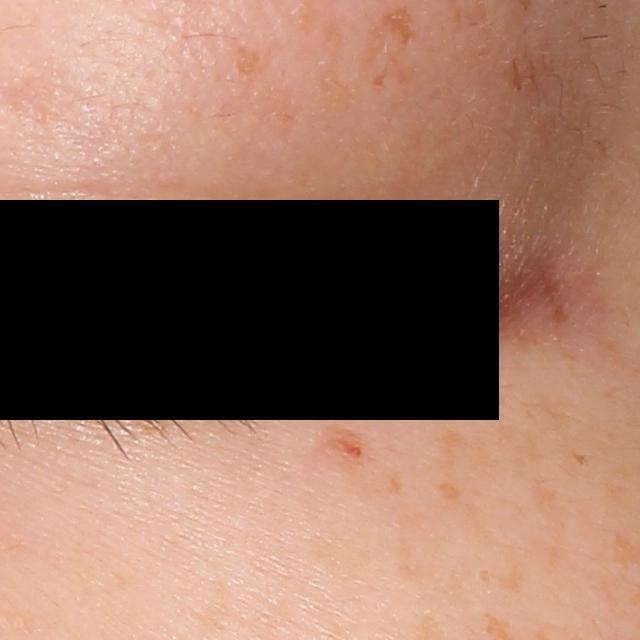melasma: (511, 56, 537, 97)
